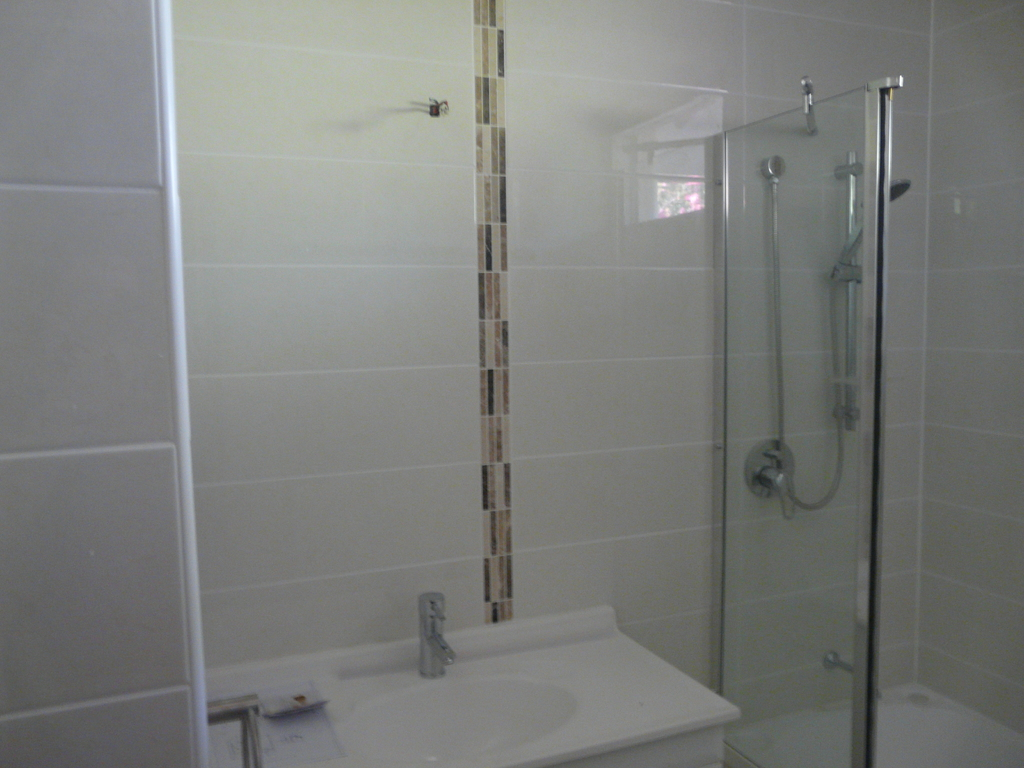tap: (416, 591, 458, 677)
